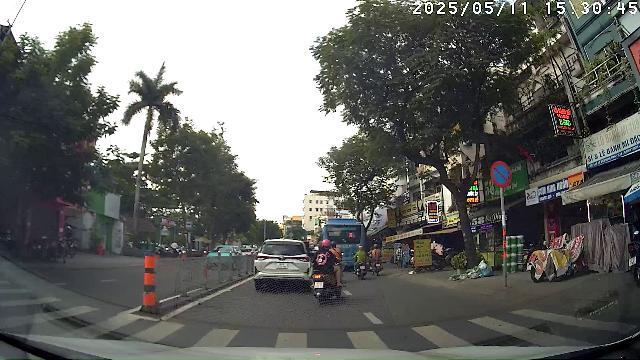131a-cam-do-xe: (490, 160, 512, 188)
